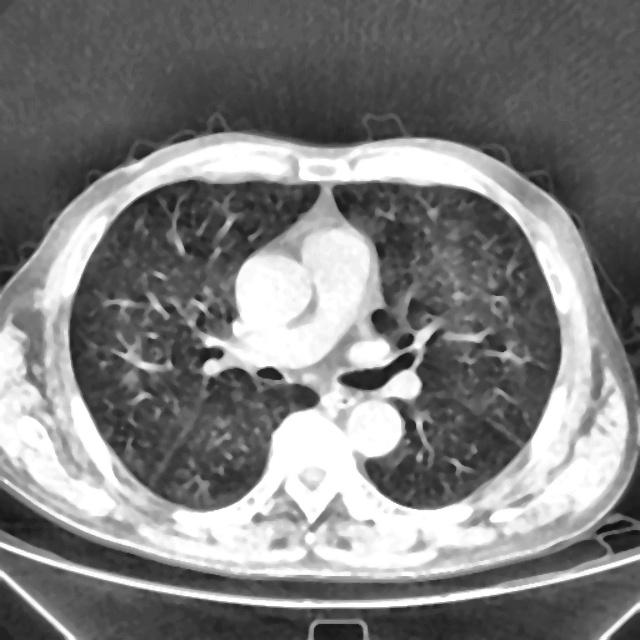covid: (1, 128, 638, 583)
